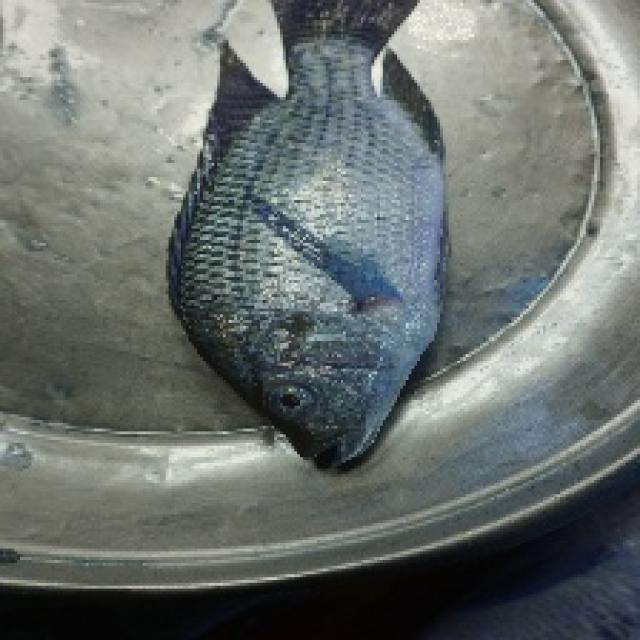Fresh: (155, 37, 482, 480)
